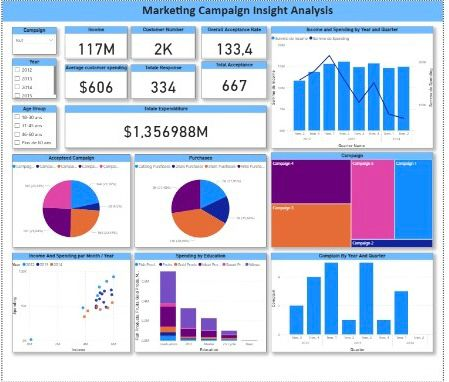

The dashboard page shown, as its layout file describes it:
{"tool":"powerbi","page":{"name":"Marketing","canvas":[1500,1300],"ordinal":0},"visuals":[{"type":"textbox","box":[0,0,1602,71.4],"z":0},{"type":"cardVisual","title":"Customer Number","fields":{"Data":["Mesures.Nombre Clients"]},"box":[436.4,87.3,220,110.9],"z":1000},{"type":"cardVisual","title":"Totale Expendditure","fields":{"Data":["Mesures.Depense_Totale"]},"box":[212.7,358.2,687.3,145.5],"z":2000},{"type":"cardVisual","title":"Average customer spending","fields":{"Data":["Mesures.Dépense_Moyenne_Client"]},"box":[212.7,216.4,212.7,118.2],"z":3000},{"type":"cardVisual","title":"Totale Response","fields":{"Data":["Mesures.Total_Reponses"]},"box":[436.4,216.4,220,118.2],"z":4000},{"type":"cardVisual","title":"Overall Acceptance Rate","fields":{"Data":["Mesures.Taux_Acceptations_Globale"]},"box":[676.4,87.3,223.6,110.9],"z":5000},{"type":"cardVisual","title":"Total Acceptance","fields":{"Data":["Mesures.Total Acceptations"]},"box":[676.4,207.3,223.6,127.3],"z":6000},{"type":"pieChart","title":"Accepteed Campaign","fields":{"Y":["Sum(marketing.AcceptedCmp1)","Sum(marketing.AcceptedCmp2)","Sum(marketing.AcceptedCmp3)","Sum(marketing.AcceptedCmp4)","Sum(marketing.AcceptedCmp5)"]},"box":[32.7,525.5,403.6,316.4],"z":7000},{"type":"pieChart","title":"Purchases","fields":{"Y":["Sum(marketing.NumCatalogPurchases)","Sum(marketing.NumDealsPurchases)","Sum(marketing.NumStorePurchases)","Sum(marketing.NumWebPurchases)"]},"box":[450.9,525.5,449.1,316.4],"z":8000},{"type":"scatterChart","title":"Income And Spending par Month / Year","fields":{"X":["Sum(marketing.Income)"],"Y":["Sum(marketing.Spending)"],"Category":["Calendrier.Month"],"Series":["Calendrier.Year"]},"box":[32.7,860,403.6,340],"z":9000},{"type":"cardVisual","title":"Income","fields":{"Data":["Sum(marketing.Income)"]},"box":[212.7,87.3,212.7,110.9],"z":10000},{"type":"columnChart","title":"Spending by Education","fields":{"Category":["marketing.Education"],"Y":["Sum(marketing.MntFishProducts)","Sum(marketing.MntFruits)","Sum(marketing.MntGoldProds)","Sum(marketing.MntMeatProducts)","Sum(marketing.MntSweetProducts)","Sum(marketing.MntWines)"]},"box":[450.9,860,449.1,340],"z":11000},{"type":"lineStackedColumnComboChart","title":" Income and Spending by Year and Quarter","fields":{"Category":["Calendrier.Year","Calendrier.Quarter Name"],"Y":["Sum(marketing.Income)"],"Y2":["Sum(marketing.Spending)"]},"box":[914.5,87.3,552.7,416.4],"z":12000},{"type":"columnChart","title":"Complain By Year And Quarter","fields":{"Y":["Sum(marketing.Complain)"],"Category":["Calendrier.Year","Calendrier.Quarter Name"]},"box":[914.5,860,552.7,340],"z":13000},{"type":"slicer","title":"Year","fields":{"Values":["Calendrier.Year"]},"box":[32.7,198.2,150.9,136.4],"z":14000},{"type":"slicer","title":"Campaign","fields":{"Values":["marketing.AcceptedCmp1","marketing.AcceptedCmp2","marketing.AcceptedCmp3","marketing.AcceptedCmp4","marketing.AcceptedCmp5"]},"box":[32.7,90.9,150.9,92.7],"z":15000},{"type":"treemap","title":"Campaign ","fields":{"Values":["Sum(marketing.AcceptedCmp1)","Sum(marketing.AcceptedCmp2)","Sum(marketing.AcceptedCmp3)","Sum(marketing.AcceptedCmp4)","Sum(marketing.AcceptedCmp5)"]},"box":[914.6,516.7,552.1,325],"z":16000},{"type":"slicer","title":"Age Group","fields":{"Values":["marketing.Tranche_Age"]},"box":[32.7,358.2,150.9,145.5],"z":17000}]}

Visuals, with their boxes in screenshot pixels (x1, y1, x2, y2), scaled from the page's 1500x1300 canvas onto the 449x382 screenshot:
textbox: [0,0,448,21]
"Customer Number" cardVisual: [131,26,196,58]
"Totale Expendditure" cardVisual: [64,105,269,148]
"Average customer spending" cardVisual: [64,64,127,98]
"Totale Response" cardVisual: [131,64,196,98]
"Overall Acceptance Rate" cardVisual: [202,26,269,58]
"Total Acceptance" cardVisual: [202,61,269,98]
"Accepteed Campaign" pieChart: [10,154,131,247]
"Purchases" pieChart: [135,154,269,247]
"Income And Spending par Month / Year" scatterChart: [10,253,131,353]
"Income" cardVisual: [64,26,127,58]
"Spending by Education" columnChart: [135,253,269,353]
" Income and Spending by Year and Quarter" lineStackedColumnComboChart: [274,26,439,148]
"Complain By Year And Quarter" columnChart: [274,253,439,353]
"Year" slicer: [10,58,55,98]
"Campaign" slicer: [10,27,55,54]
"Campaign " treemap: [274,152,439,247]
"Age Group" slicer: [10,105,55,148]
